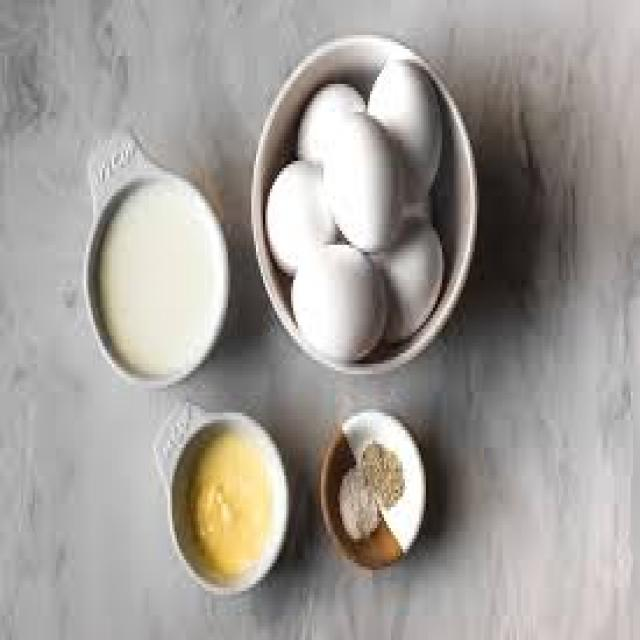Egg: (322, 108, 406, 260), (290, 245, 390, 372), (366, 54, 446, 209), (262, 157, 340, 278)
Milk carton/jug: (88, 179, 225, 382)
